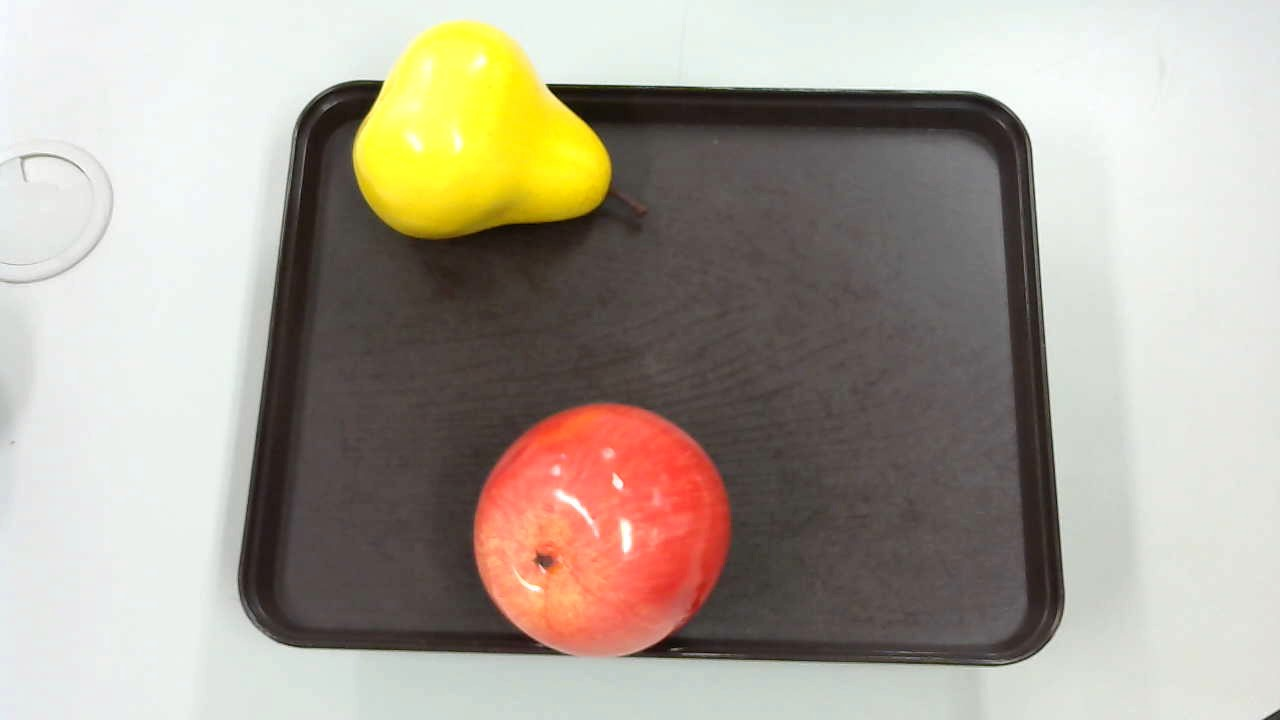red apple: (474, 402, 730, 656)
yellow pear: (348, 17, 652, 249)
